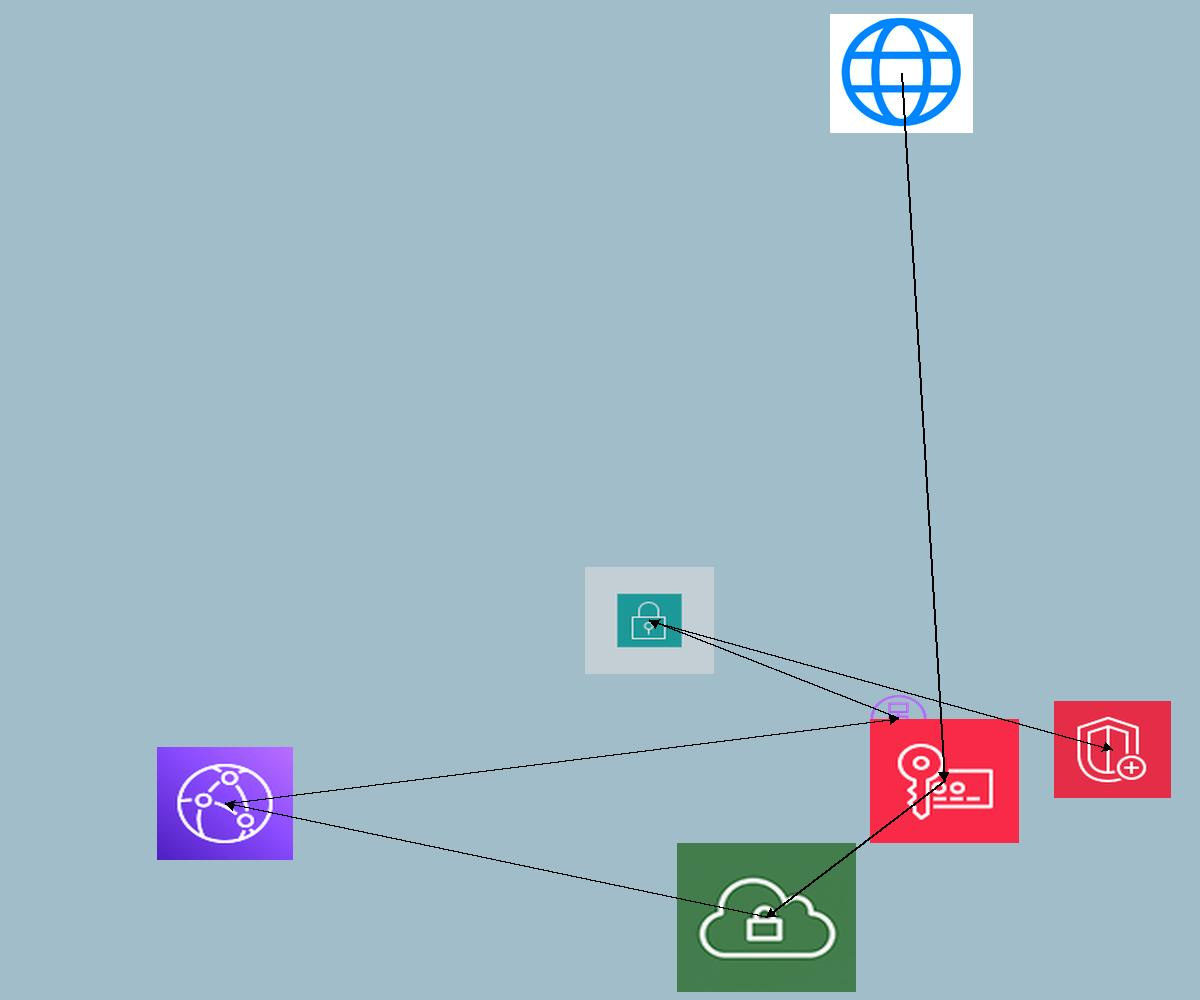AWS-CloudFront: (157, 747, 293, 860)
AWS-Key-Management-Service: (870, 719, 1019, 843)
AWS-Private-subnet: (585, 567, 714, 674)
AWS-Private_vpc: (677, 843, 856, 992)
AWS-Res_Elastic-Load-Balancing_Application-Load-Balancer: (868, 693, 929, 744)
AWS-Shield: (1054, 701, 1171, 798)
Azure_http: (830, 14, 973, 133)
